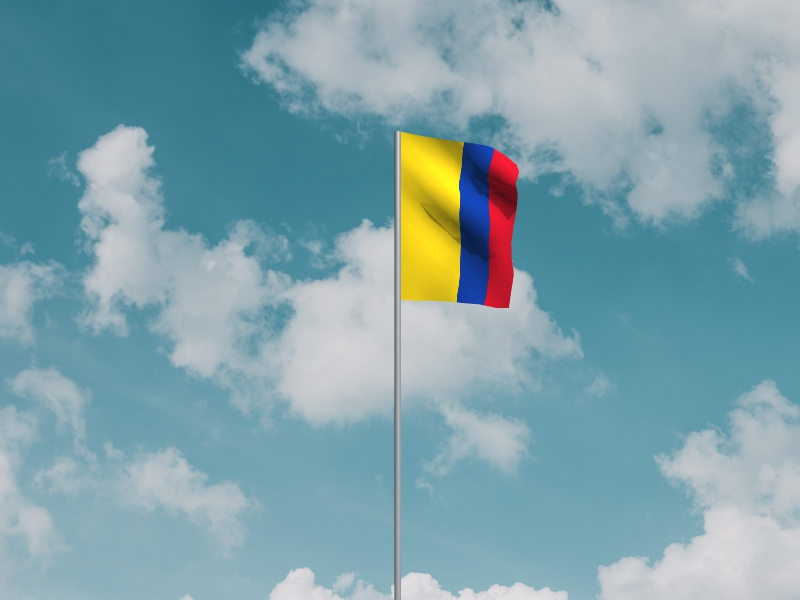co: (401, 133, 521, 310)
